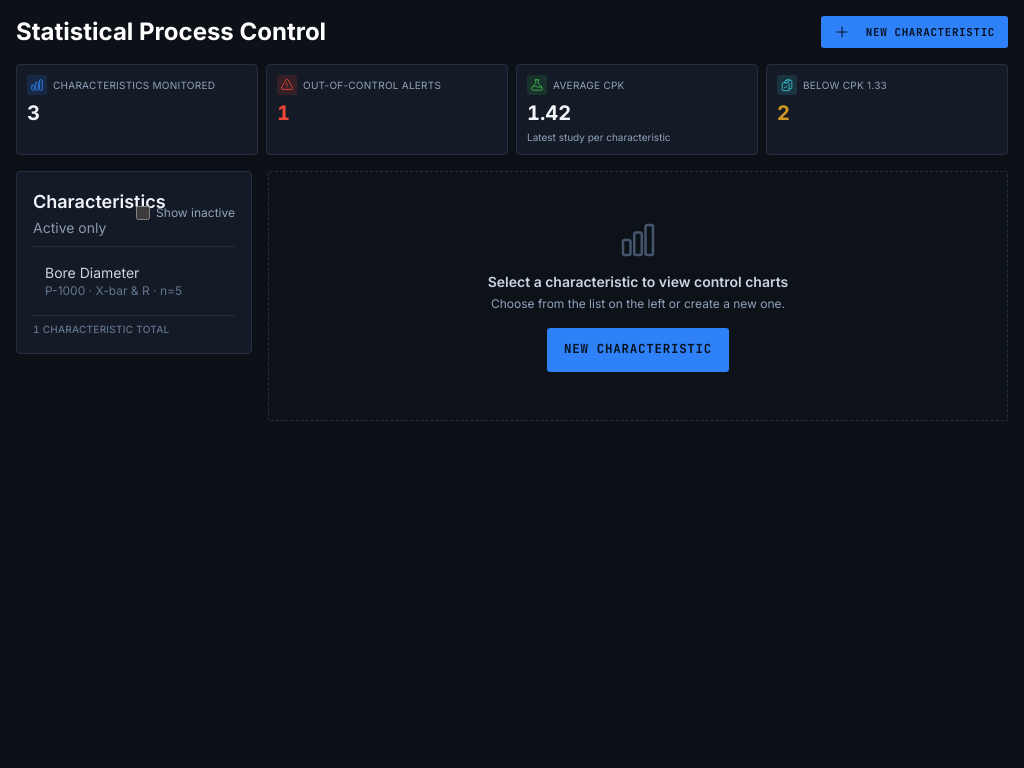
Test: SPC page — API contract › gives a capability verdict to Cpk/Ppk only, never to the spread-only Cp/Pp
The width and height of the screenshot is (1024, 768).
Click the button "Bore Diameter P-1000 · X-bar & R · n=5" at (132, 280), box [33,254,231,306]
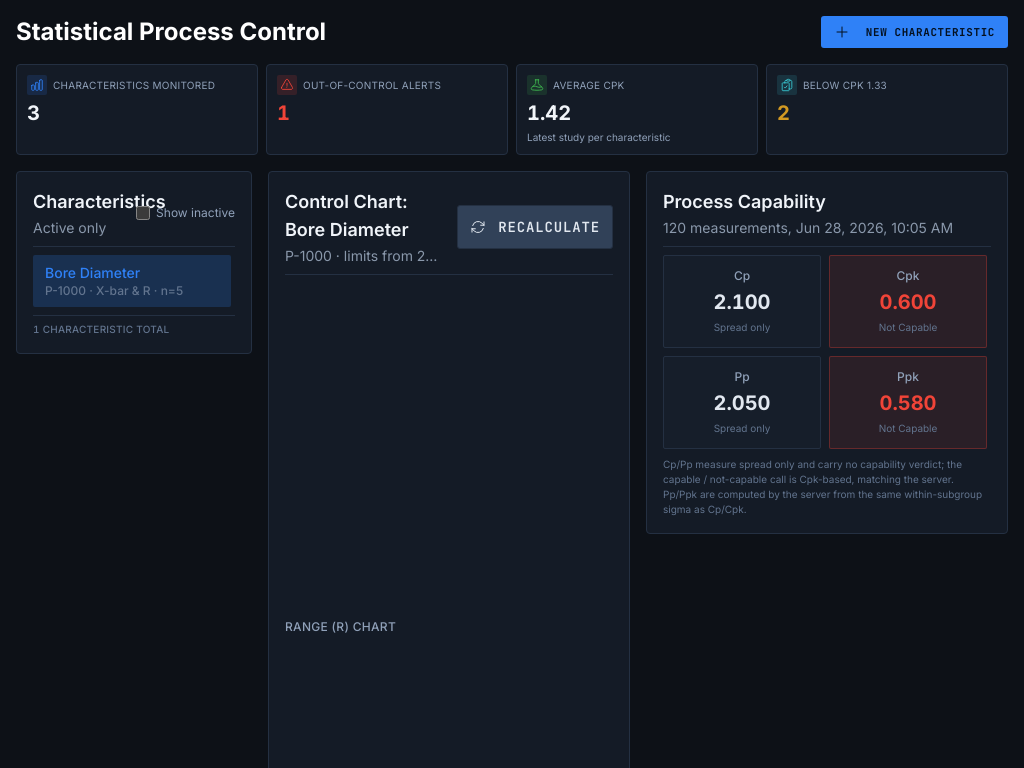
Expected: the heading "Control Chart: Bore Diameter" is shown, [285,190,409,240]
Expected: the text "Spread only" below "2.050" is shown, [714,422,770,434]
Expected: the text "Not Capable" below "0.580" is shown, [879,422,937,434]
